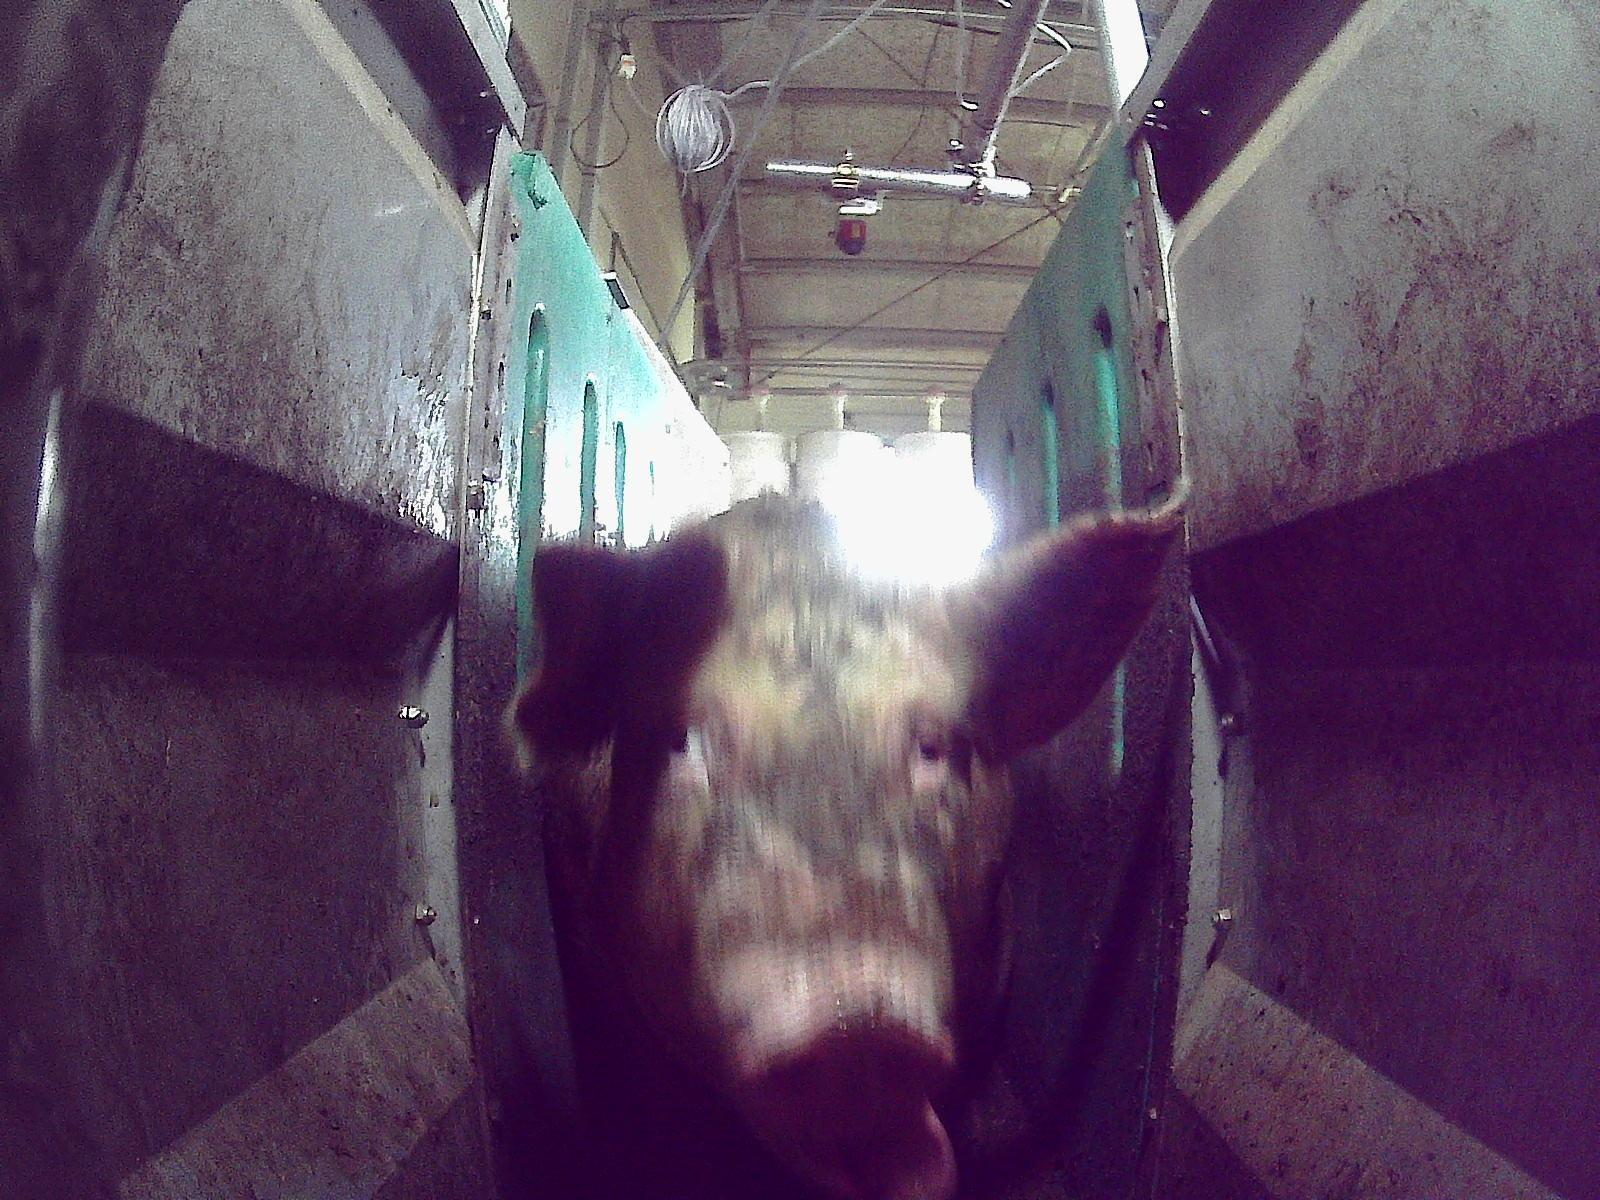Face: (606, 564, 1018, 1199)
